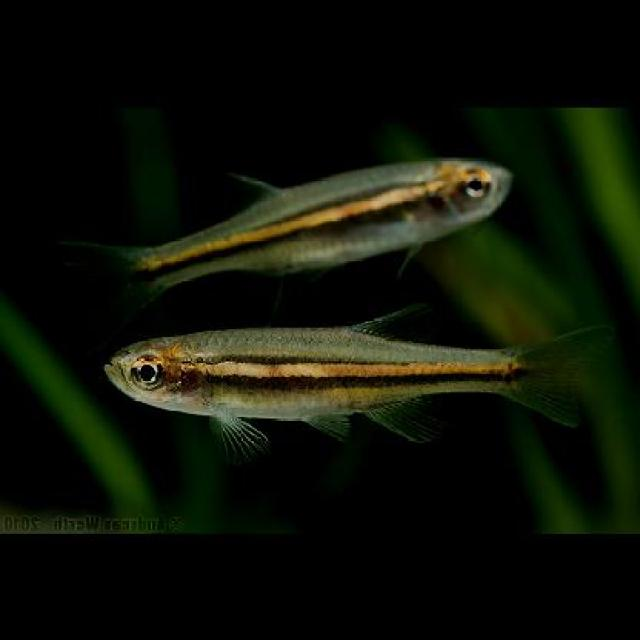ZebraFish: (102, 298, 618, 462)
